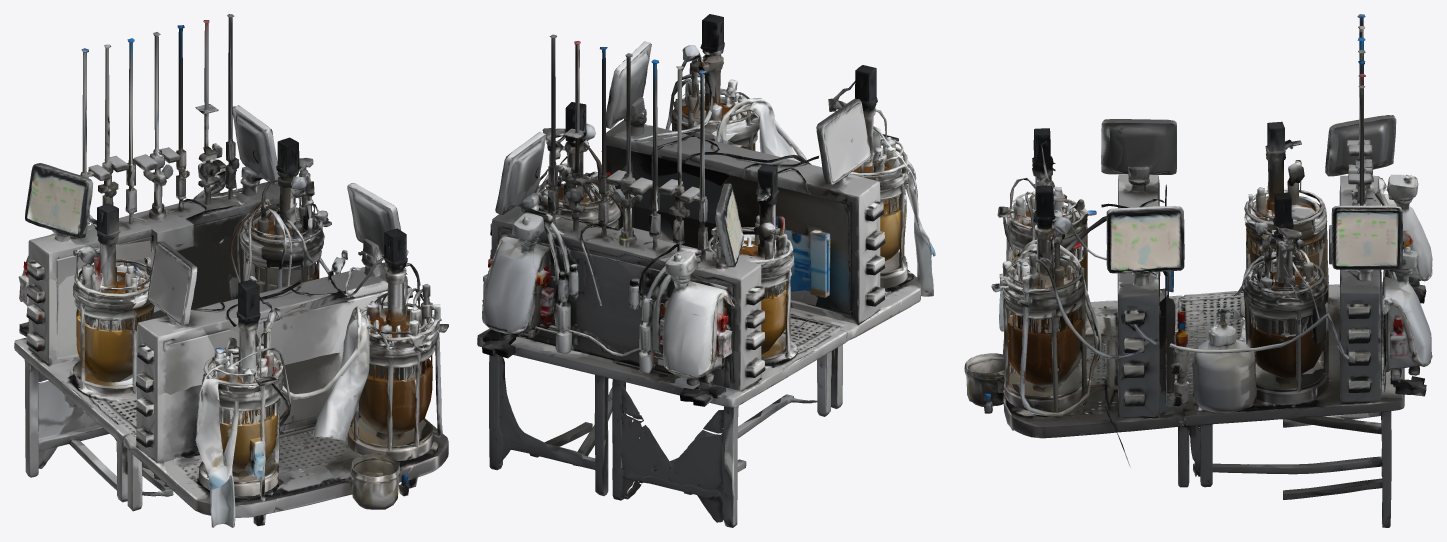
Rendered from technology-12.glb.
3 renders of one model, left to right at view 1: azimuth 30°, elevation 25°; view 2: azimuth 150°, elevation 25°; view 3: azimuth 270°, elevation 25°, orthographic. The views are drawn at different scales.
Bounding box in the file's own units: 0.9441 × 1.43 × 1.44.
1 material, 1 textured.
